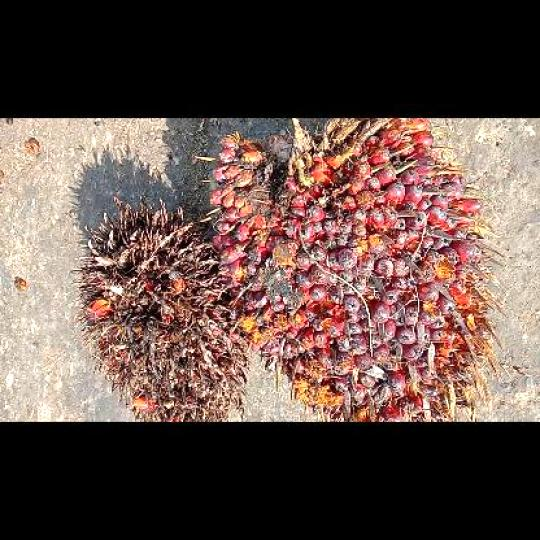masak: (194, 117, 503, 420)
terlalu masak: (73, 197, 252, 421)
